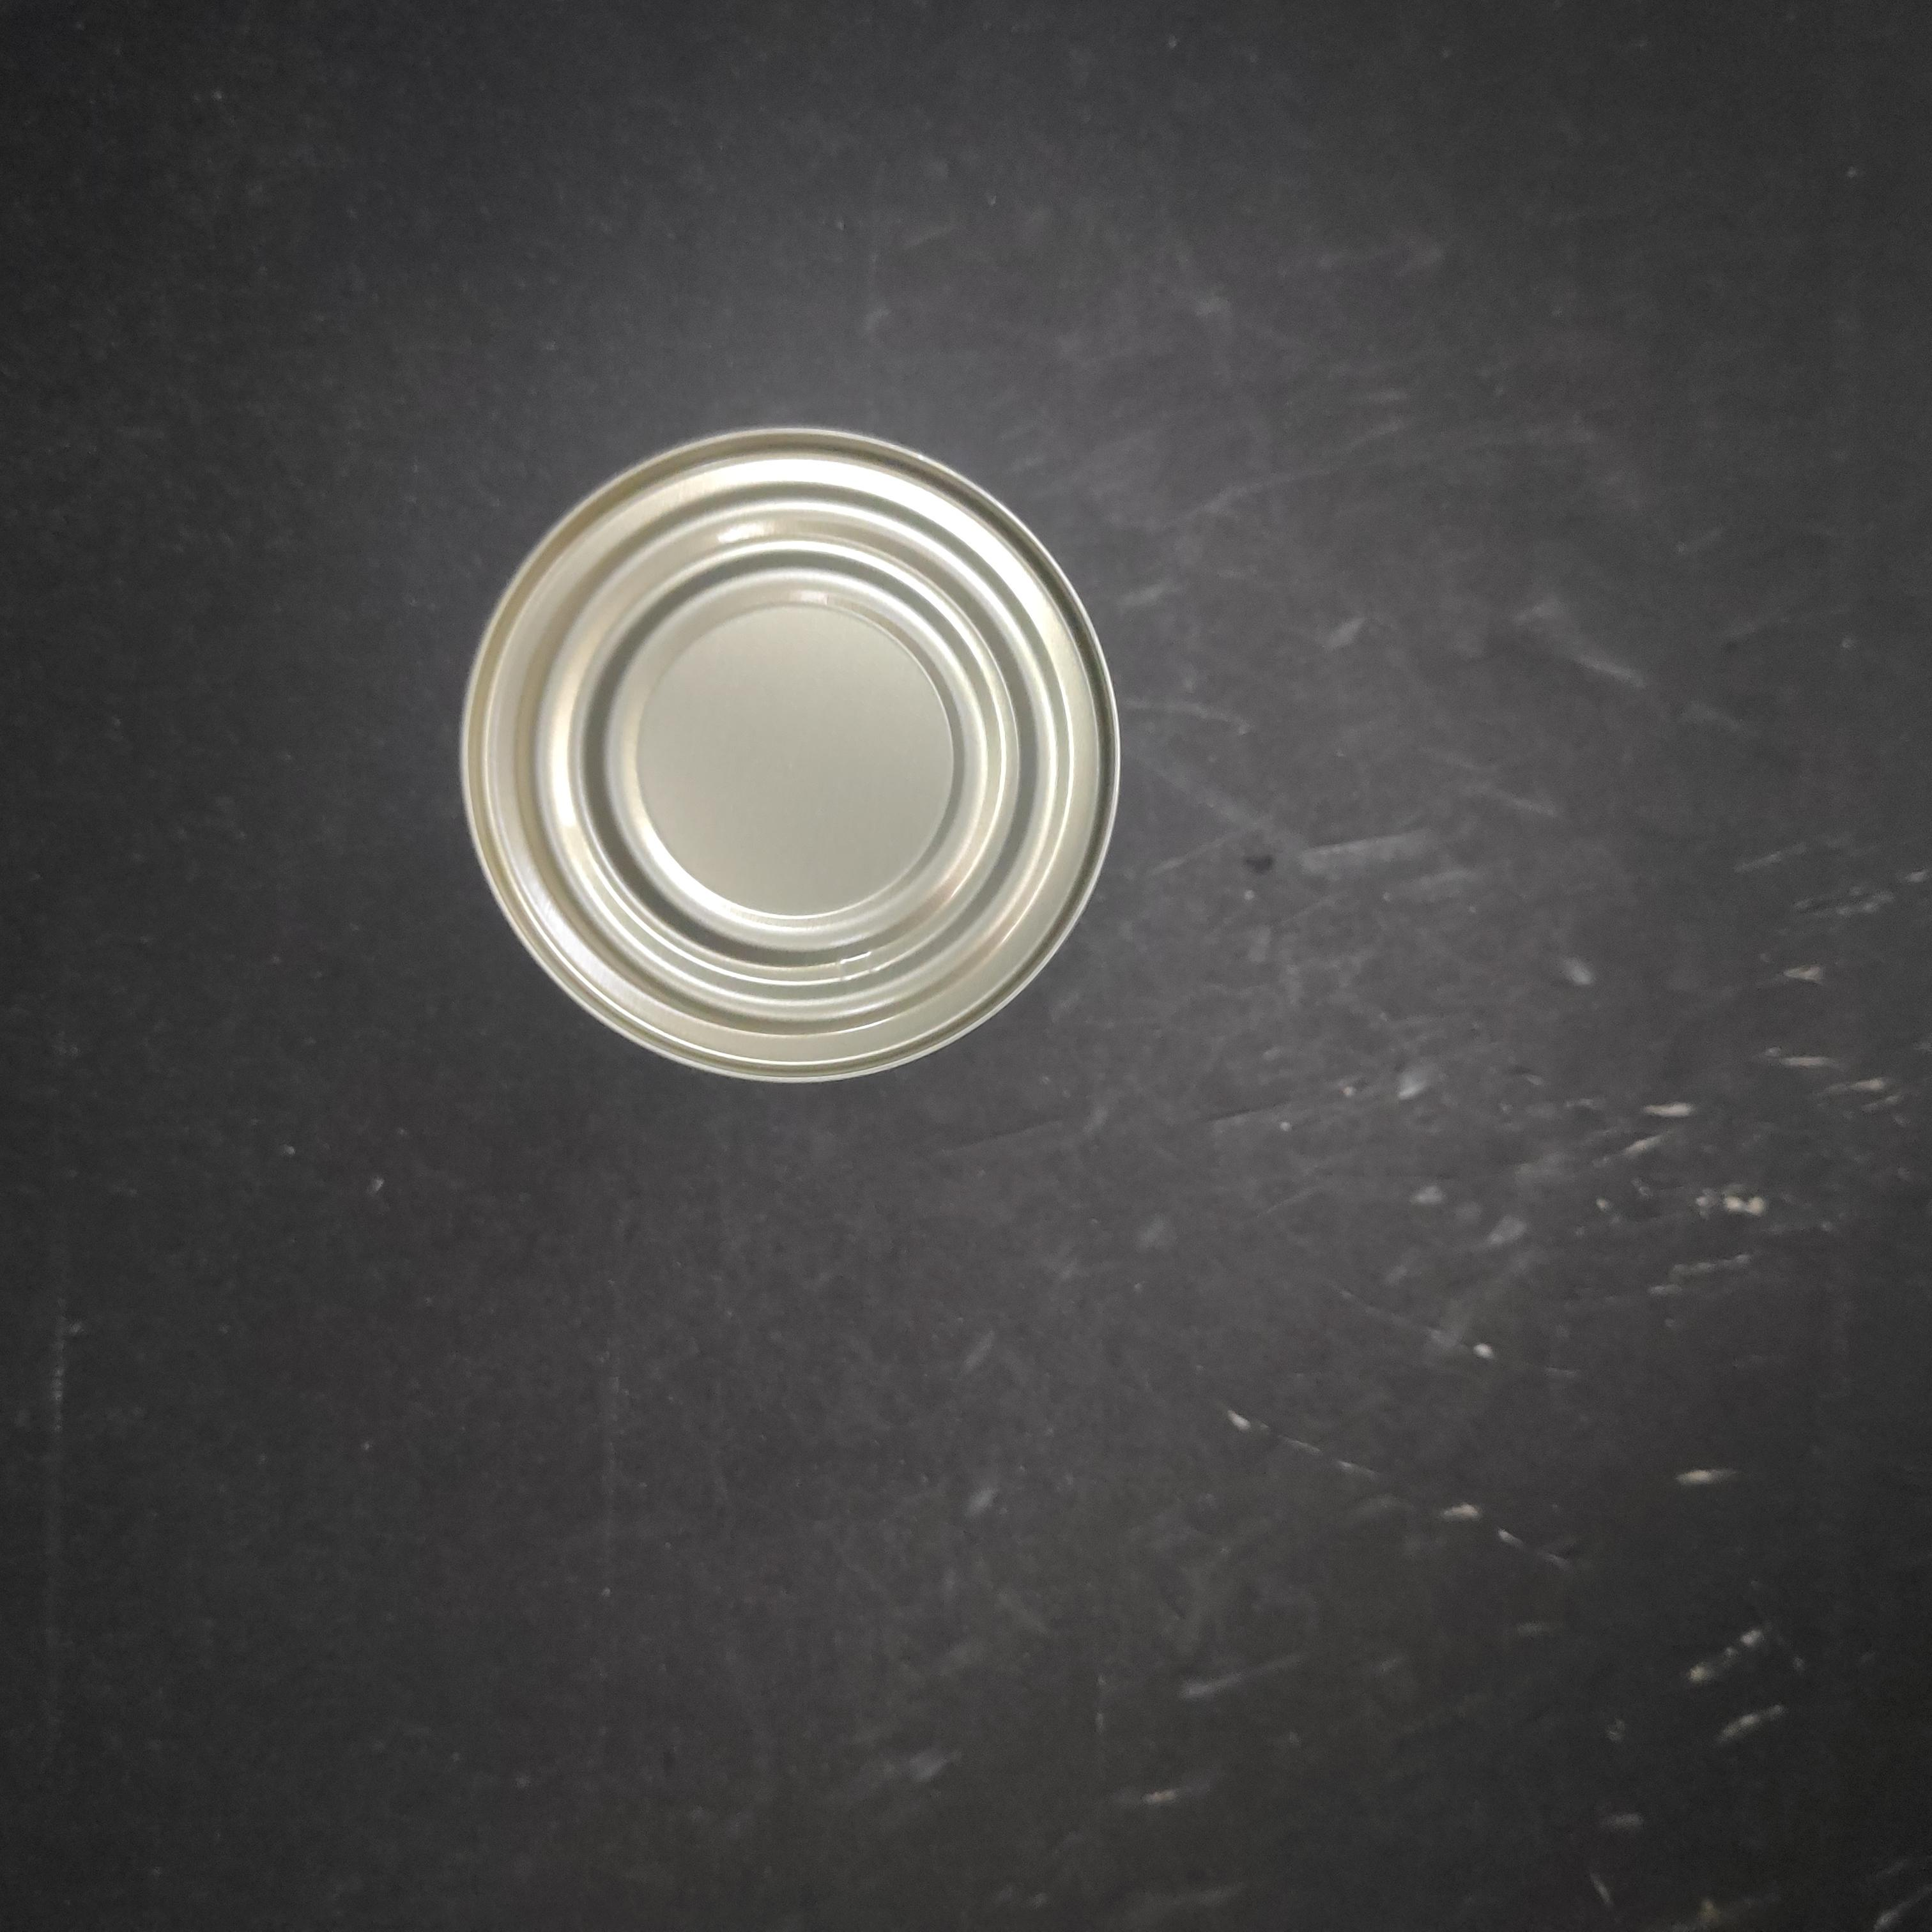No defect: (847, 457, 1507, 1123)
